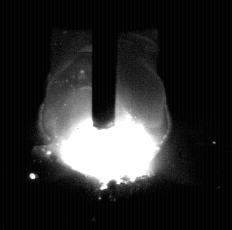arame: (93, 0, 117, 129)
poca: (39, 0, 171, 230)
